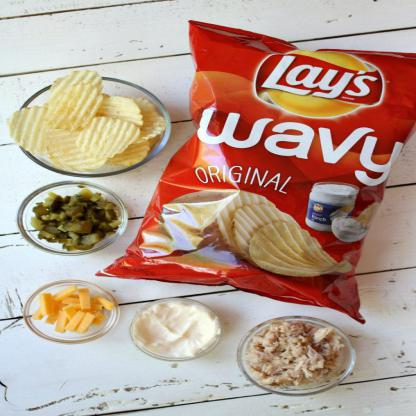potatochip: (90, 15, 415, 328)
